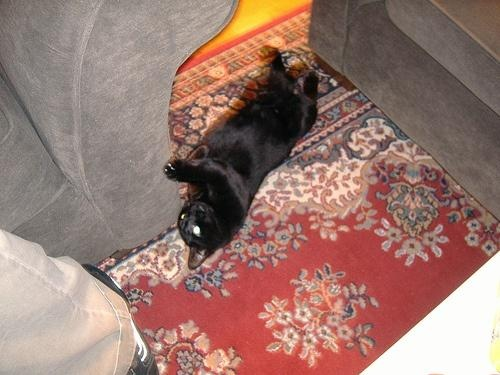cat: (164, 49, 320, 270)
sofa: (1, 2, 241, 266)
